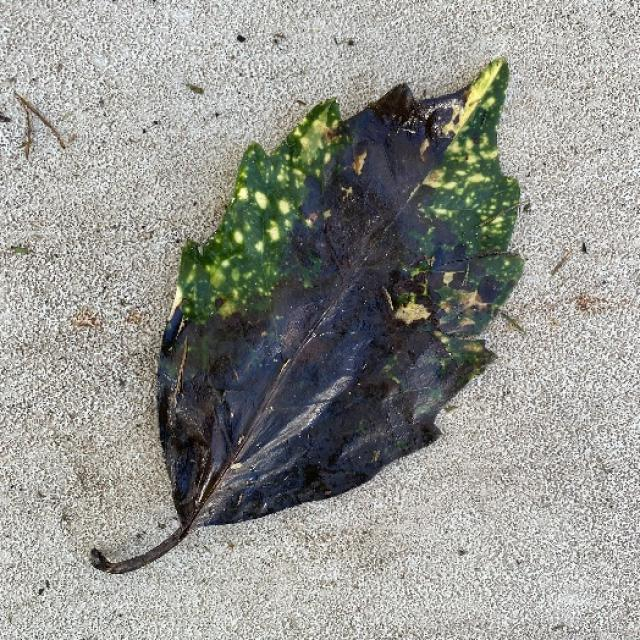organik: (104, 52, 534, 564)
